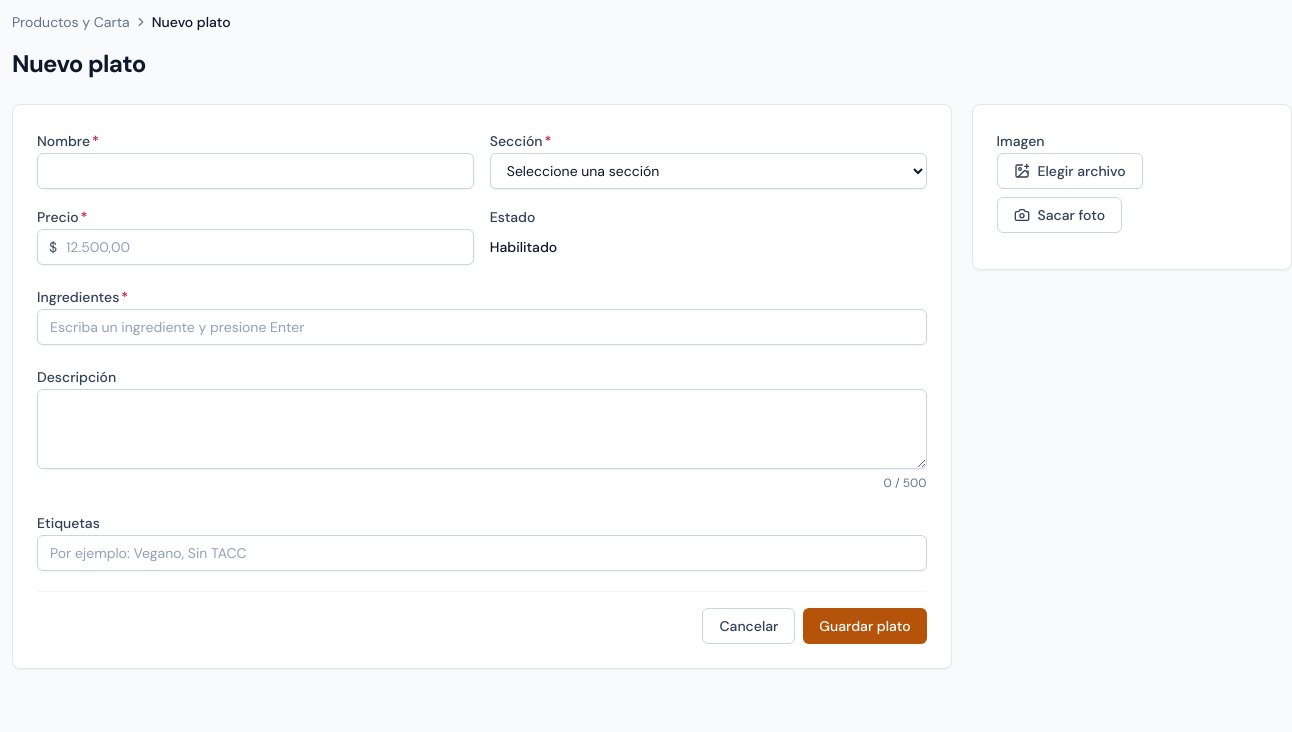
Test: ProductoNuevoPage PLATO: validaciones › advierte el 409 de nombre repetido en el campo y no sale de la página (CA 3)
Step 1. Type " Milanesa " into the field labelled "Nombre*" → (255, 171), box [37,153,474,189]
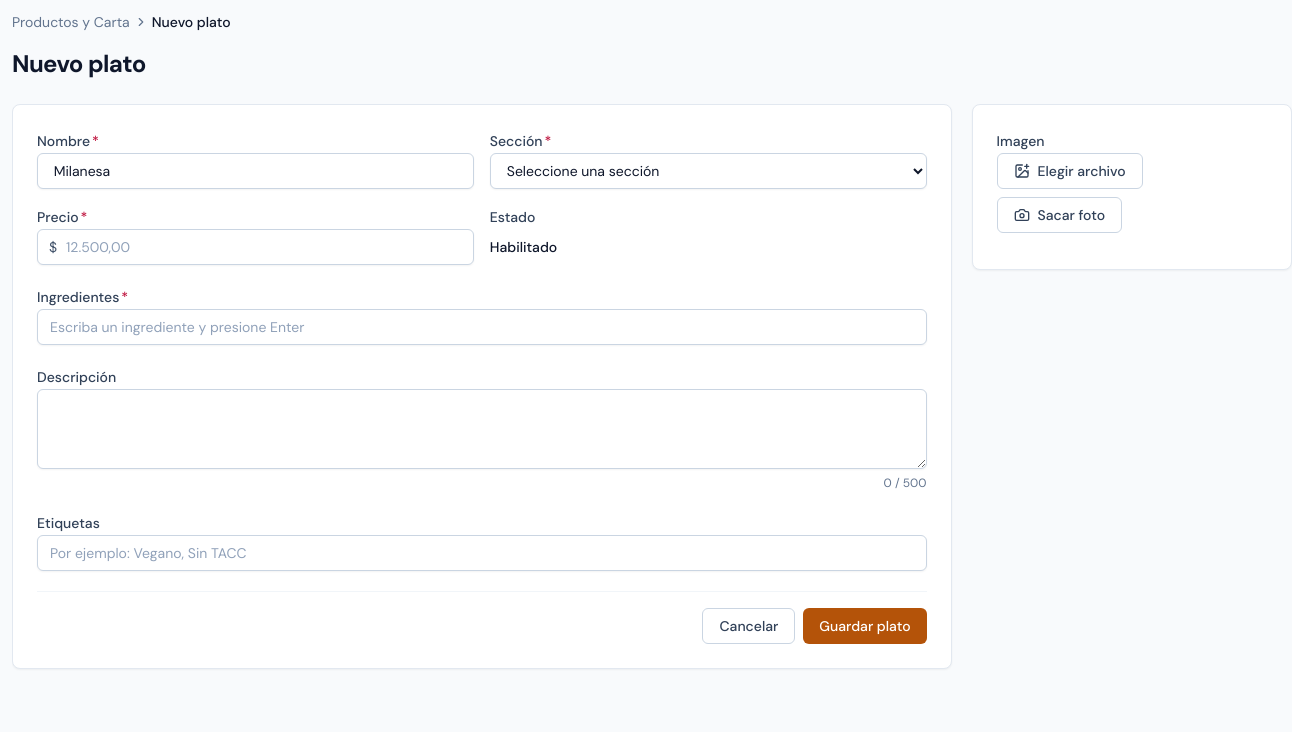
Step 2. Select "Platos principales" in the dropdown labelled "Sección*" → (708, 171), box [490,153,927,189]
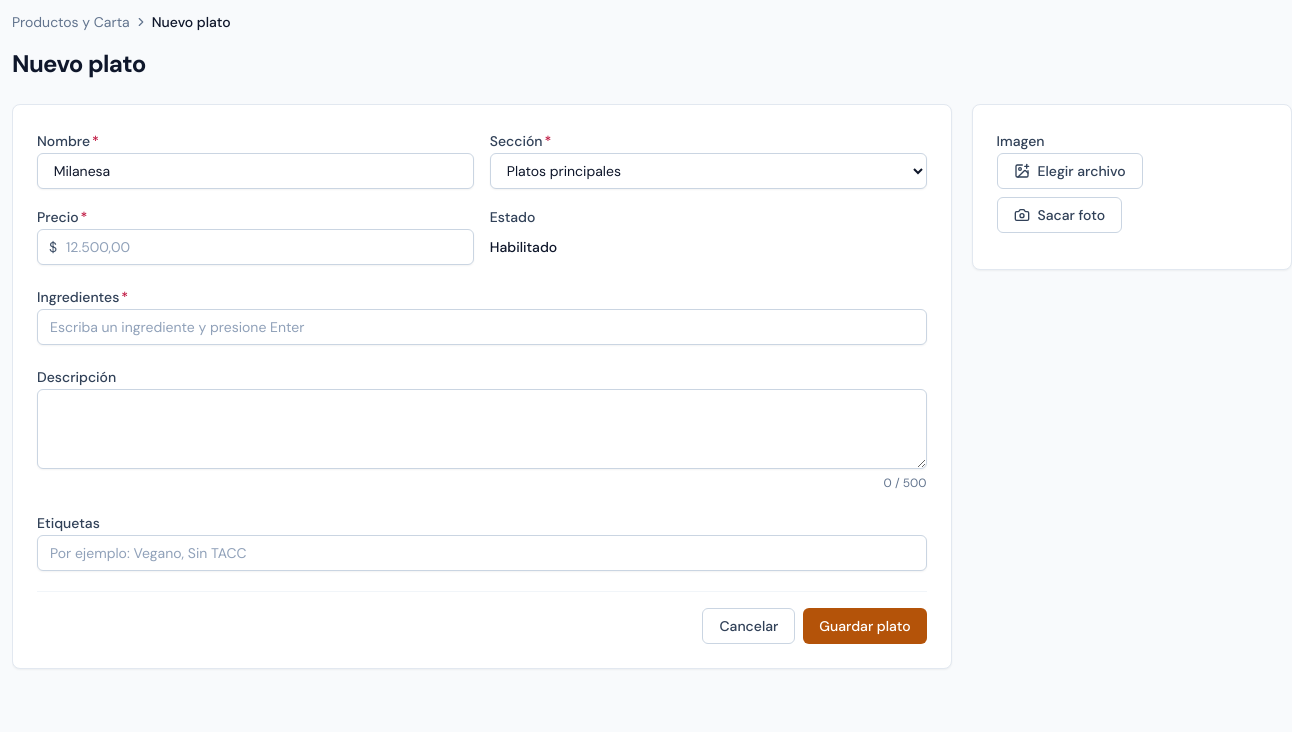
Step 3. Type "12.500,50" into the field labelled "Precio*" → (255, 247), box [37,229,474,265]
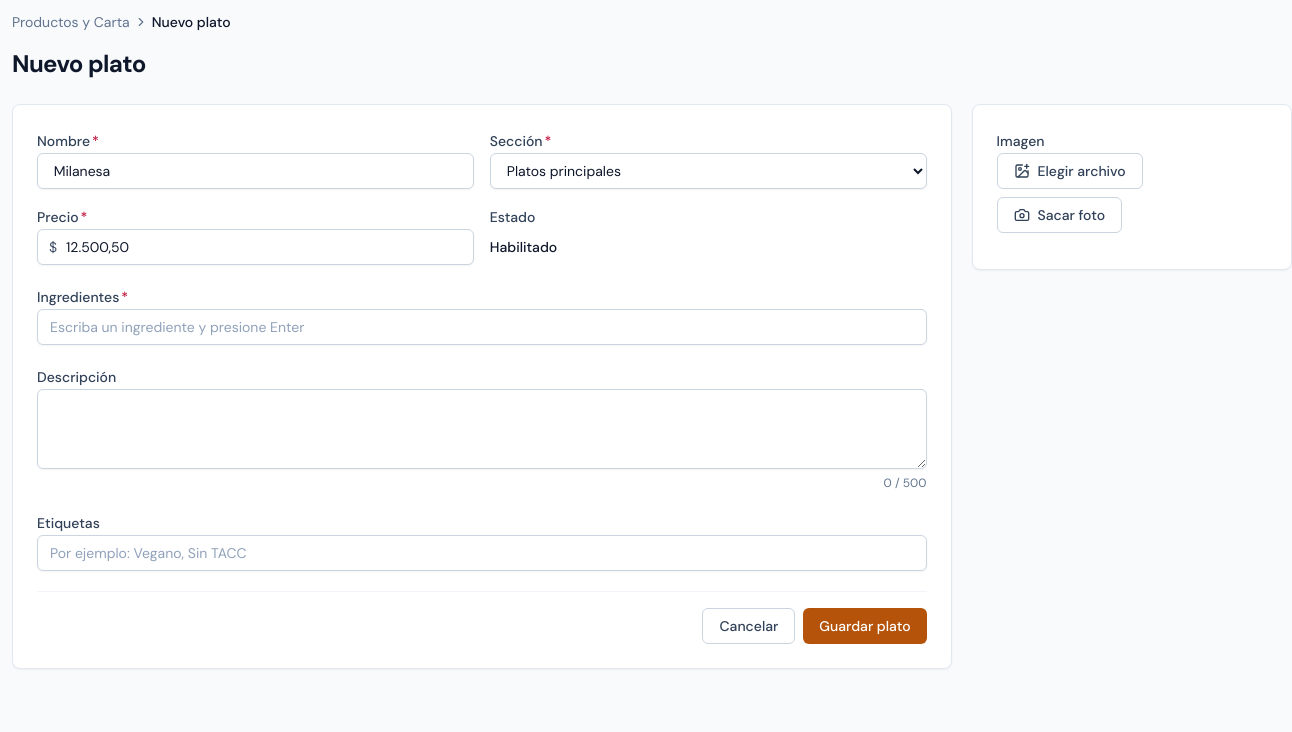
Step 4. Type "Carne" into the field labelled "Ingredientes*" → (482, 327), box [37,309,926,345]
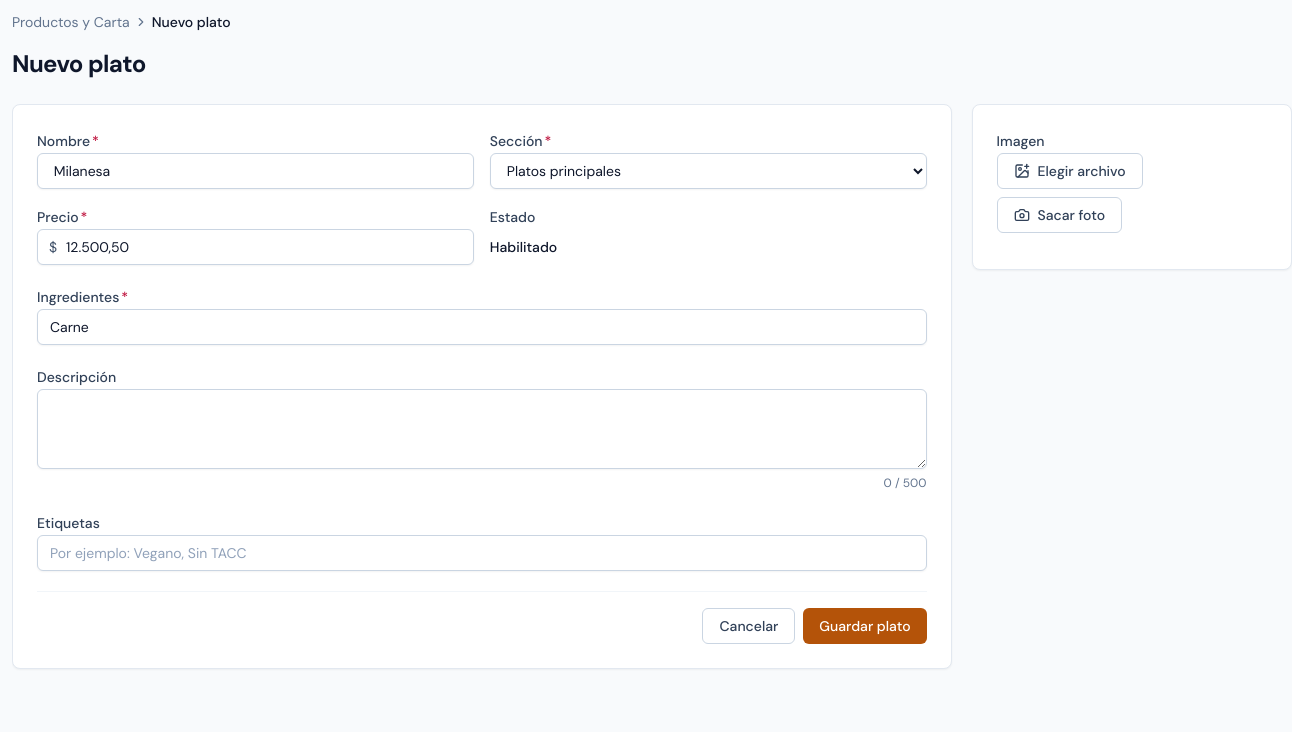
Step 5. Press Enter in the field labelled "Ingredientes*", box [37,309,926,345]
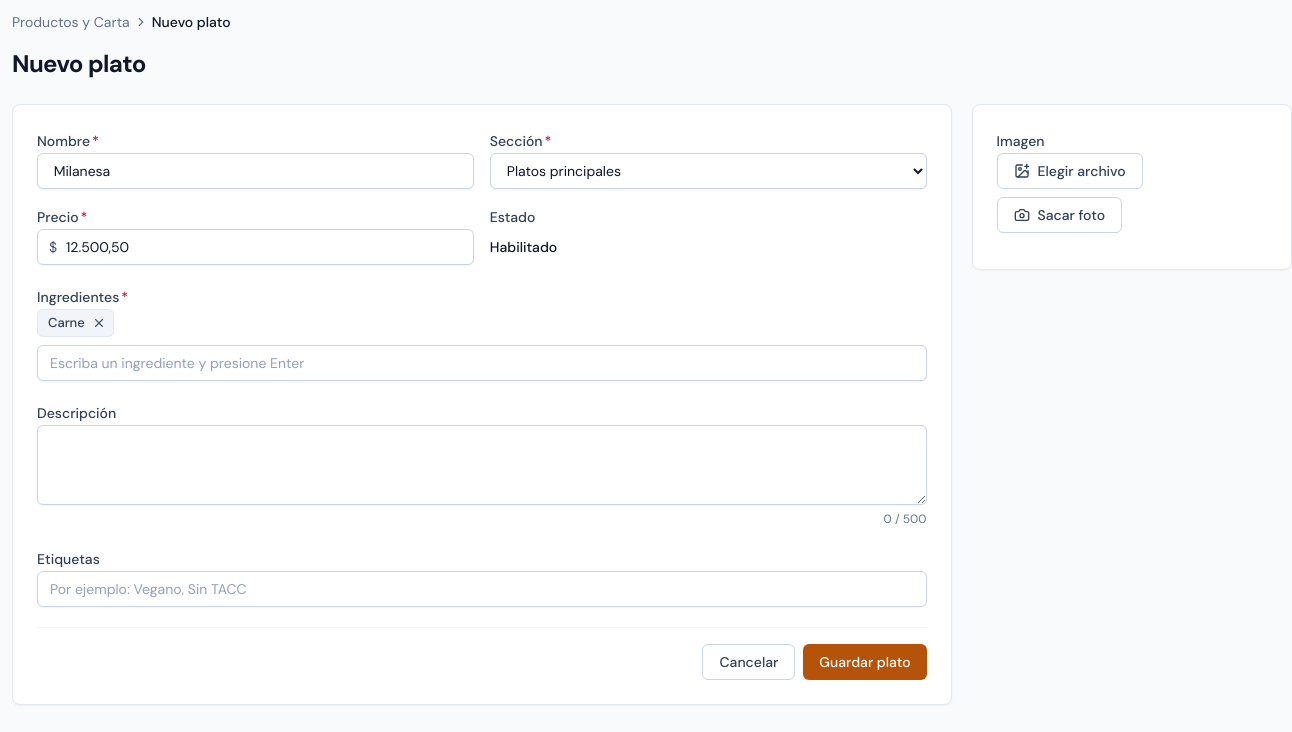
Step 6. Click the button "Guardar plato" → (865, 662), box [803,644,927,680]
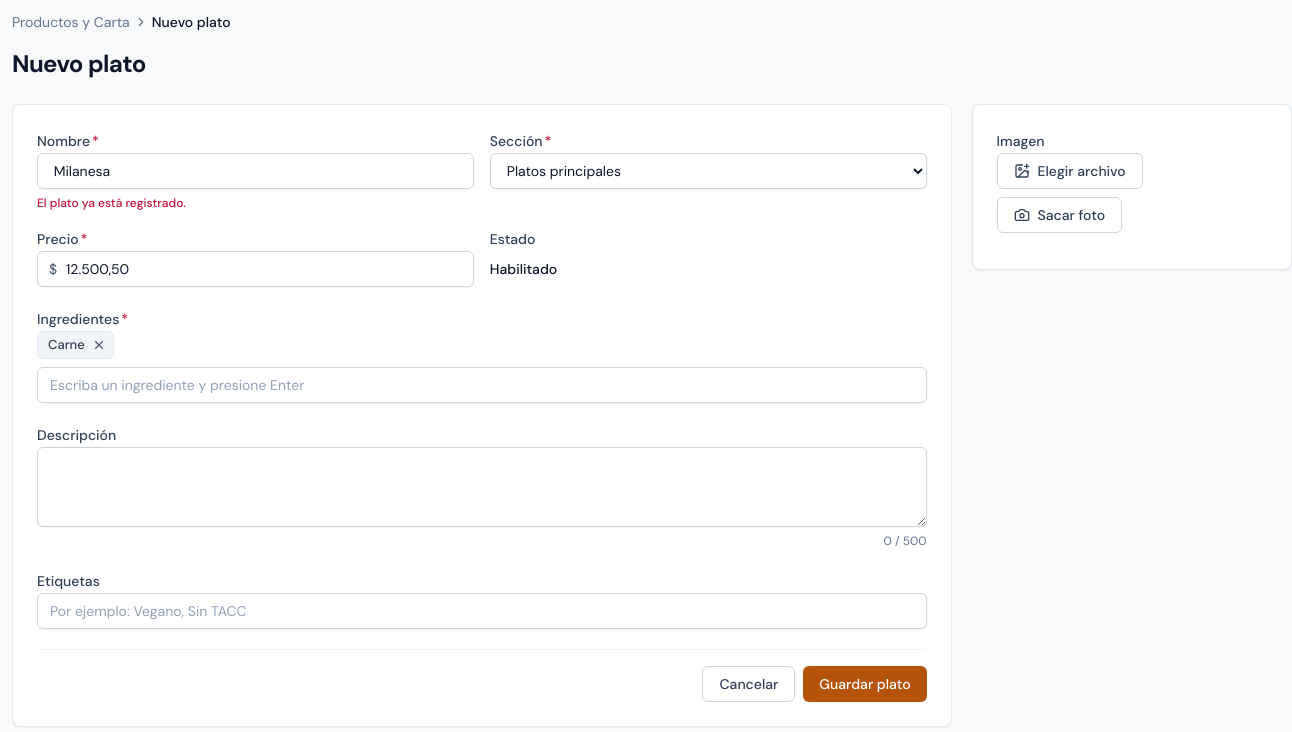
Check: the text "El plato ya está registrado." is shown, box [37,195,186,211]
